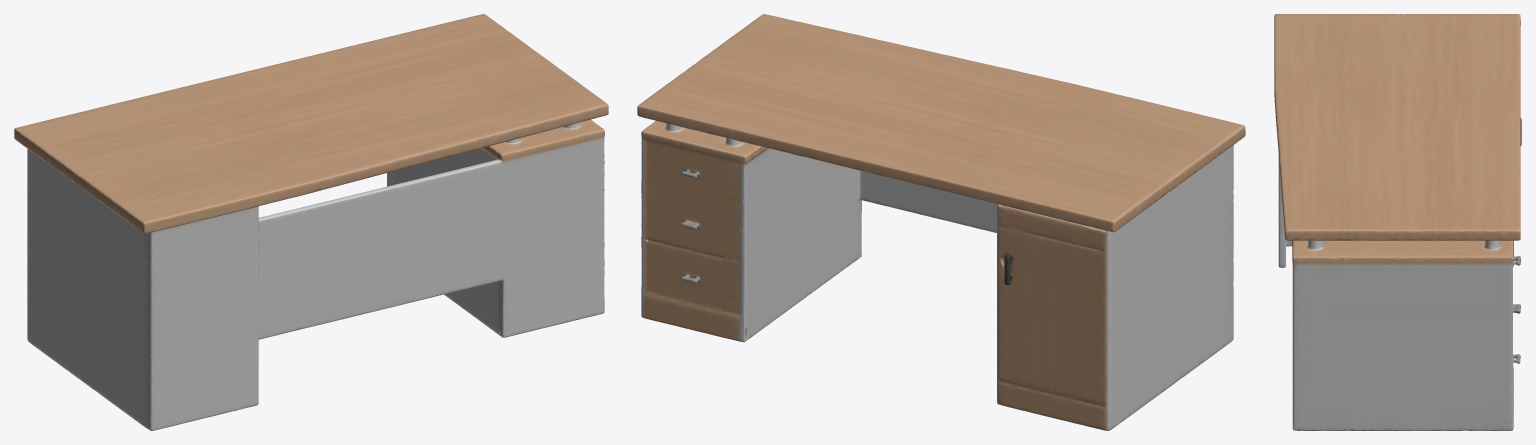
The model's file is 10_浅木色储物办公桌.glb.
The picture shows the model from 3 angles, left to right: view 1: azimuth 30°, elevation 25°; view 2: azimuth 150°, elevation 25°; view 3: azimuth 270°, elevation 25°; orthographic projection. The views are drawn at different scales.
Visible parts, largest first — view 1: world; view 2: world; view 3: world.
Boxes of the visible parts, x1,y1,x2,y2 form: world: (14, 14, 608, 430); world: (637, 14, 1245, 430); world: (1274, 14, 1521, 430).
Bounding box in the file's own units: 1 × 0.4335 × 0.4835.
1 material, 1 textured.
